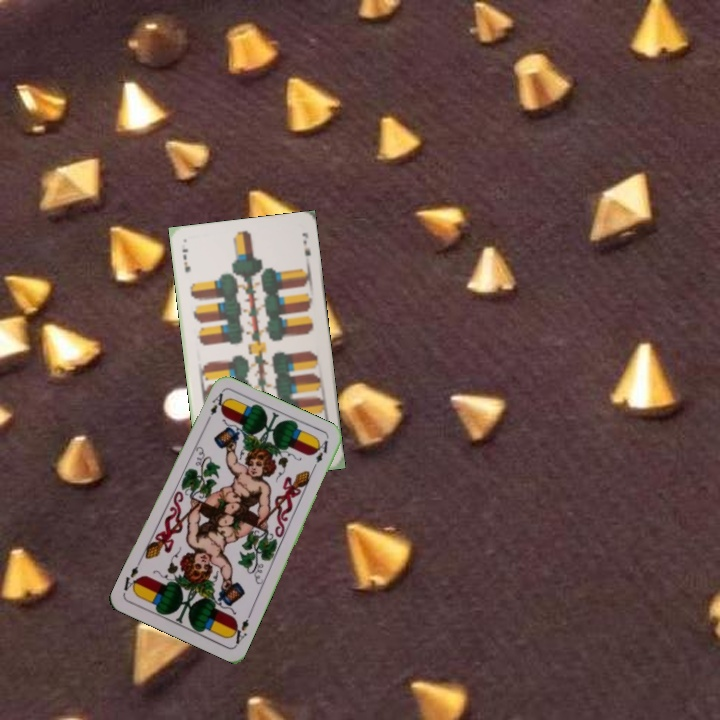E7: (178, 245, 193, 274)
EA: (227, 609, 254, 648), (202, 388, 225, 427)
